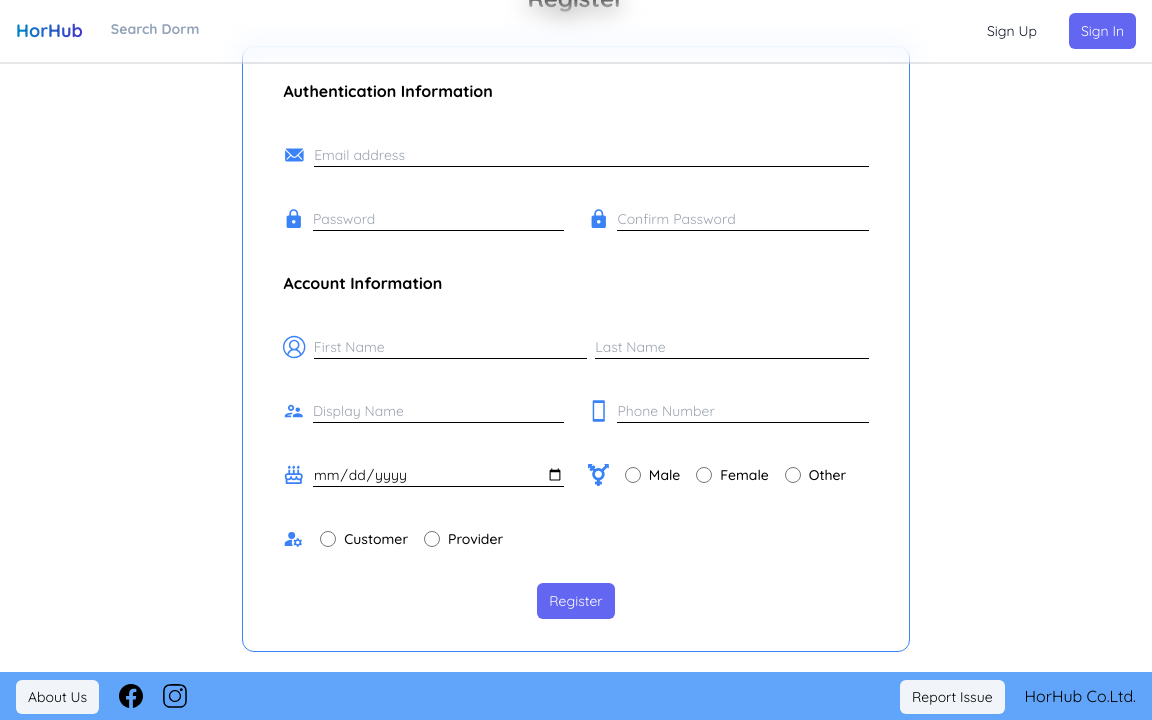
test register › TC1-1: all empty string
The image size is (1152, 720).
(page scrolled)
Click the button with id "register_submit".
click(576, 601)  # box [537,583,614,619]
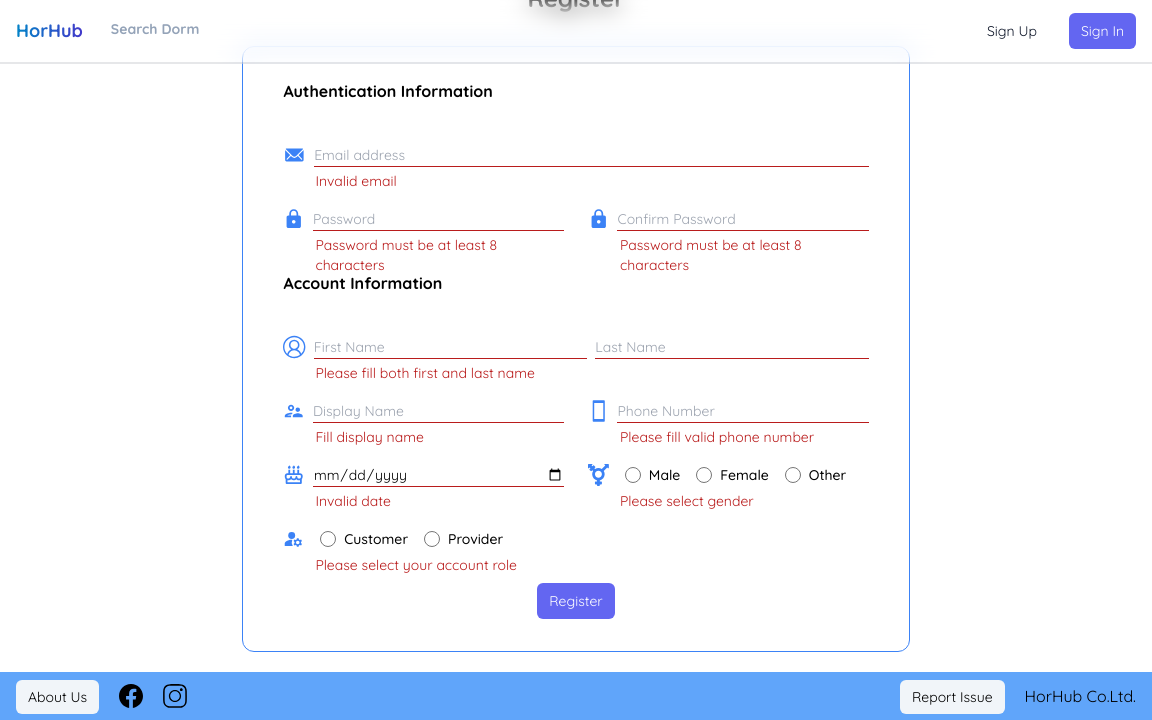
Expected: the text "Invalid email" is shown, [315,172,397,190]
Expected: the 1st text "Password must be at least 8 characters" is shown, [315,236,497,274]
Expected: the text "Please fill both first and last name" is shown, [283,363,535,383]
